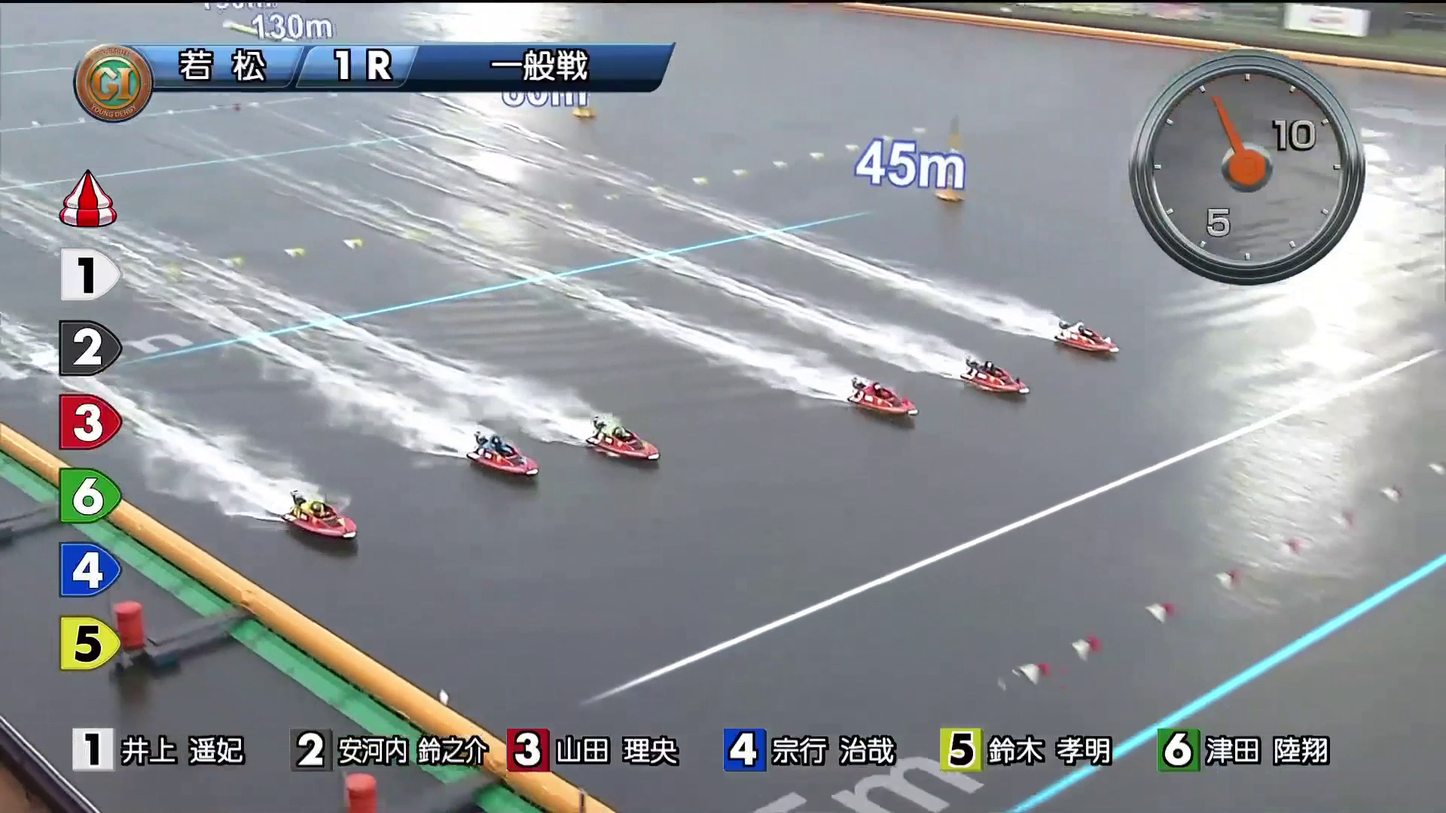１号艇: (1047, 310, 1109, 357)
２号艇: (962, 353, 1024, 391)
３号艇: (851, 375, 906, 416)
４号艇: (596, 418, 658, 461)
５号艇: (472, 444, 540, 482)
６号艇: (303, 512, 368, 559)
